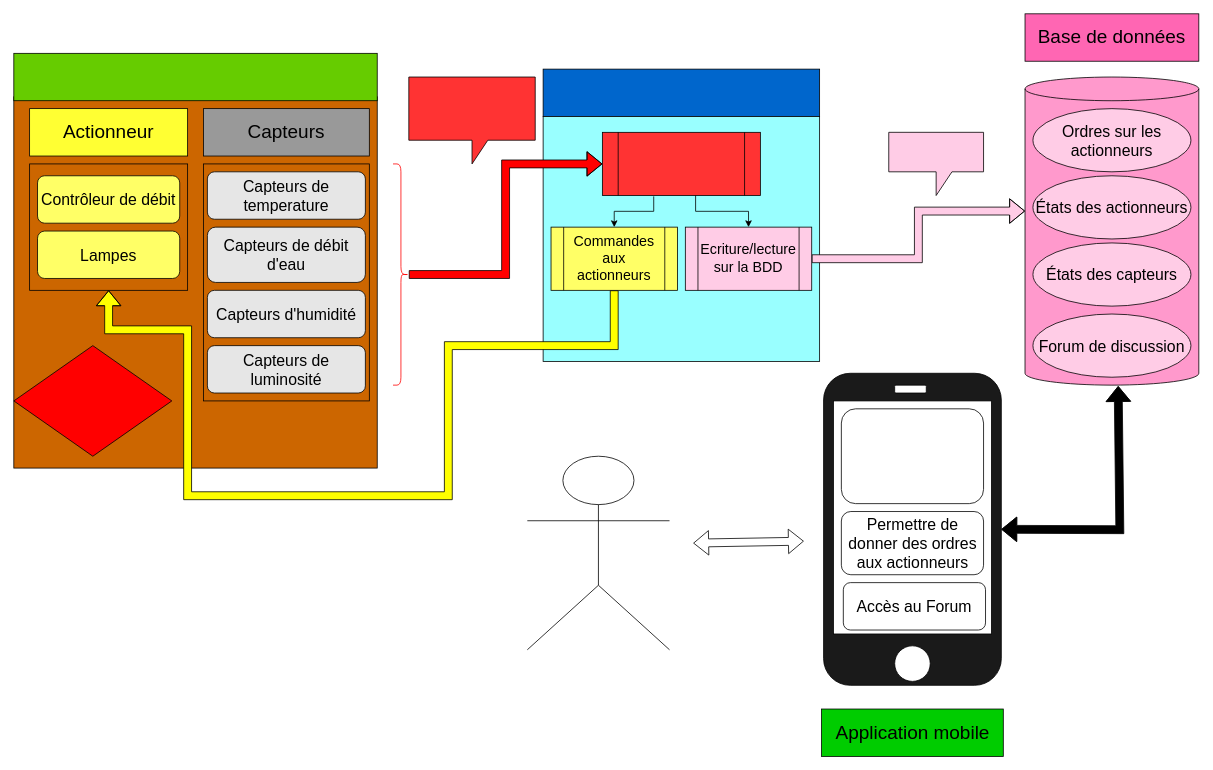
Some shapes in this 1213 by 770 pixel diagram are drawn without their labels. Here are the shapes that lost their labels. From the top down, the centre of each, then its label:
pixel 195 77: POTAGER
pixel 681 92: Microcontrôleur
pixel 471 120: DONNÉES MESURÉES
pixel 681 164: Traitement des données
pixel 936 164: ROUTER
pixel 92 400: LEDS de signalisation
pixel 912 456: Afficher les données des capteurs et les alertes
pixel 598 552: Actor
